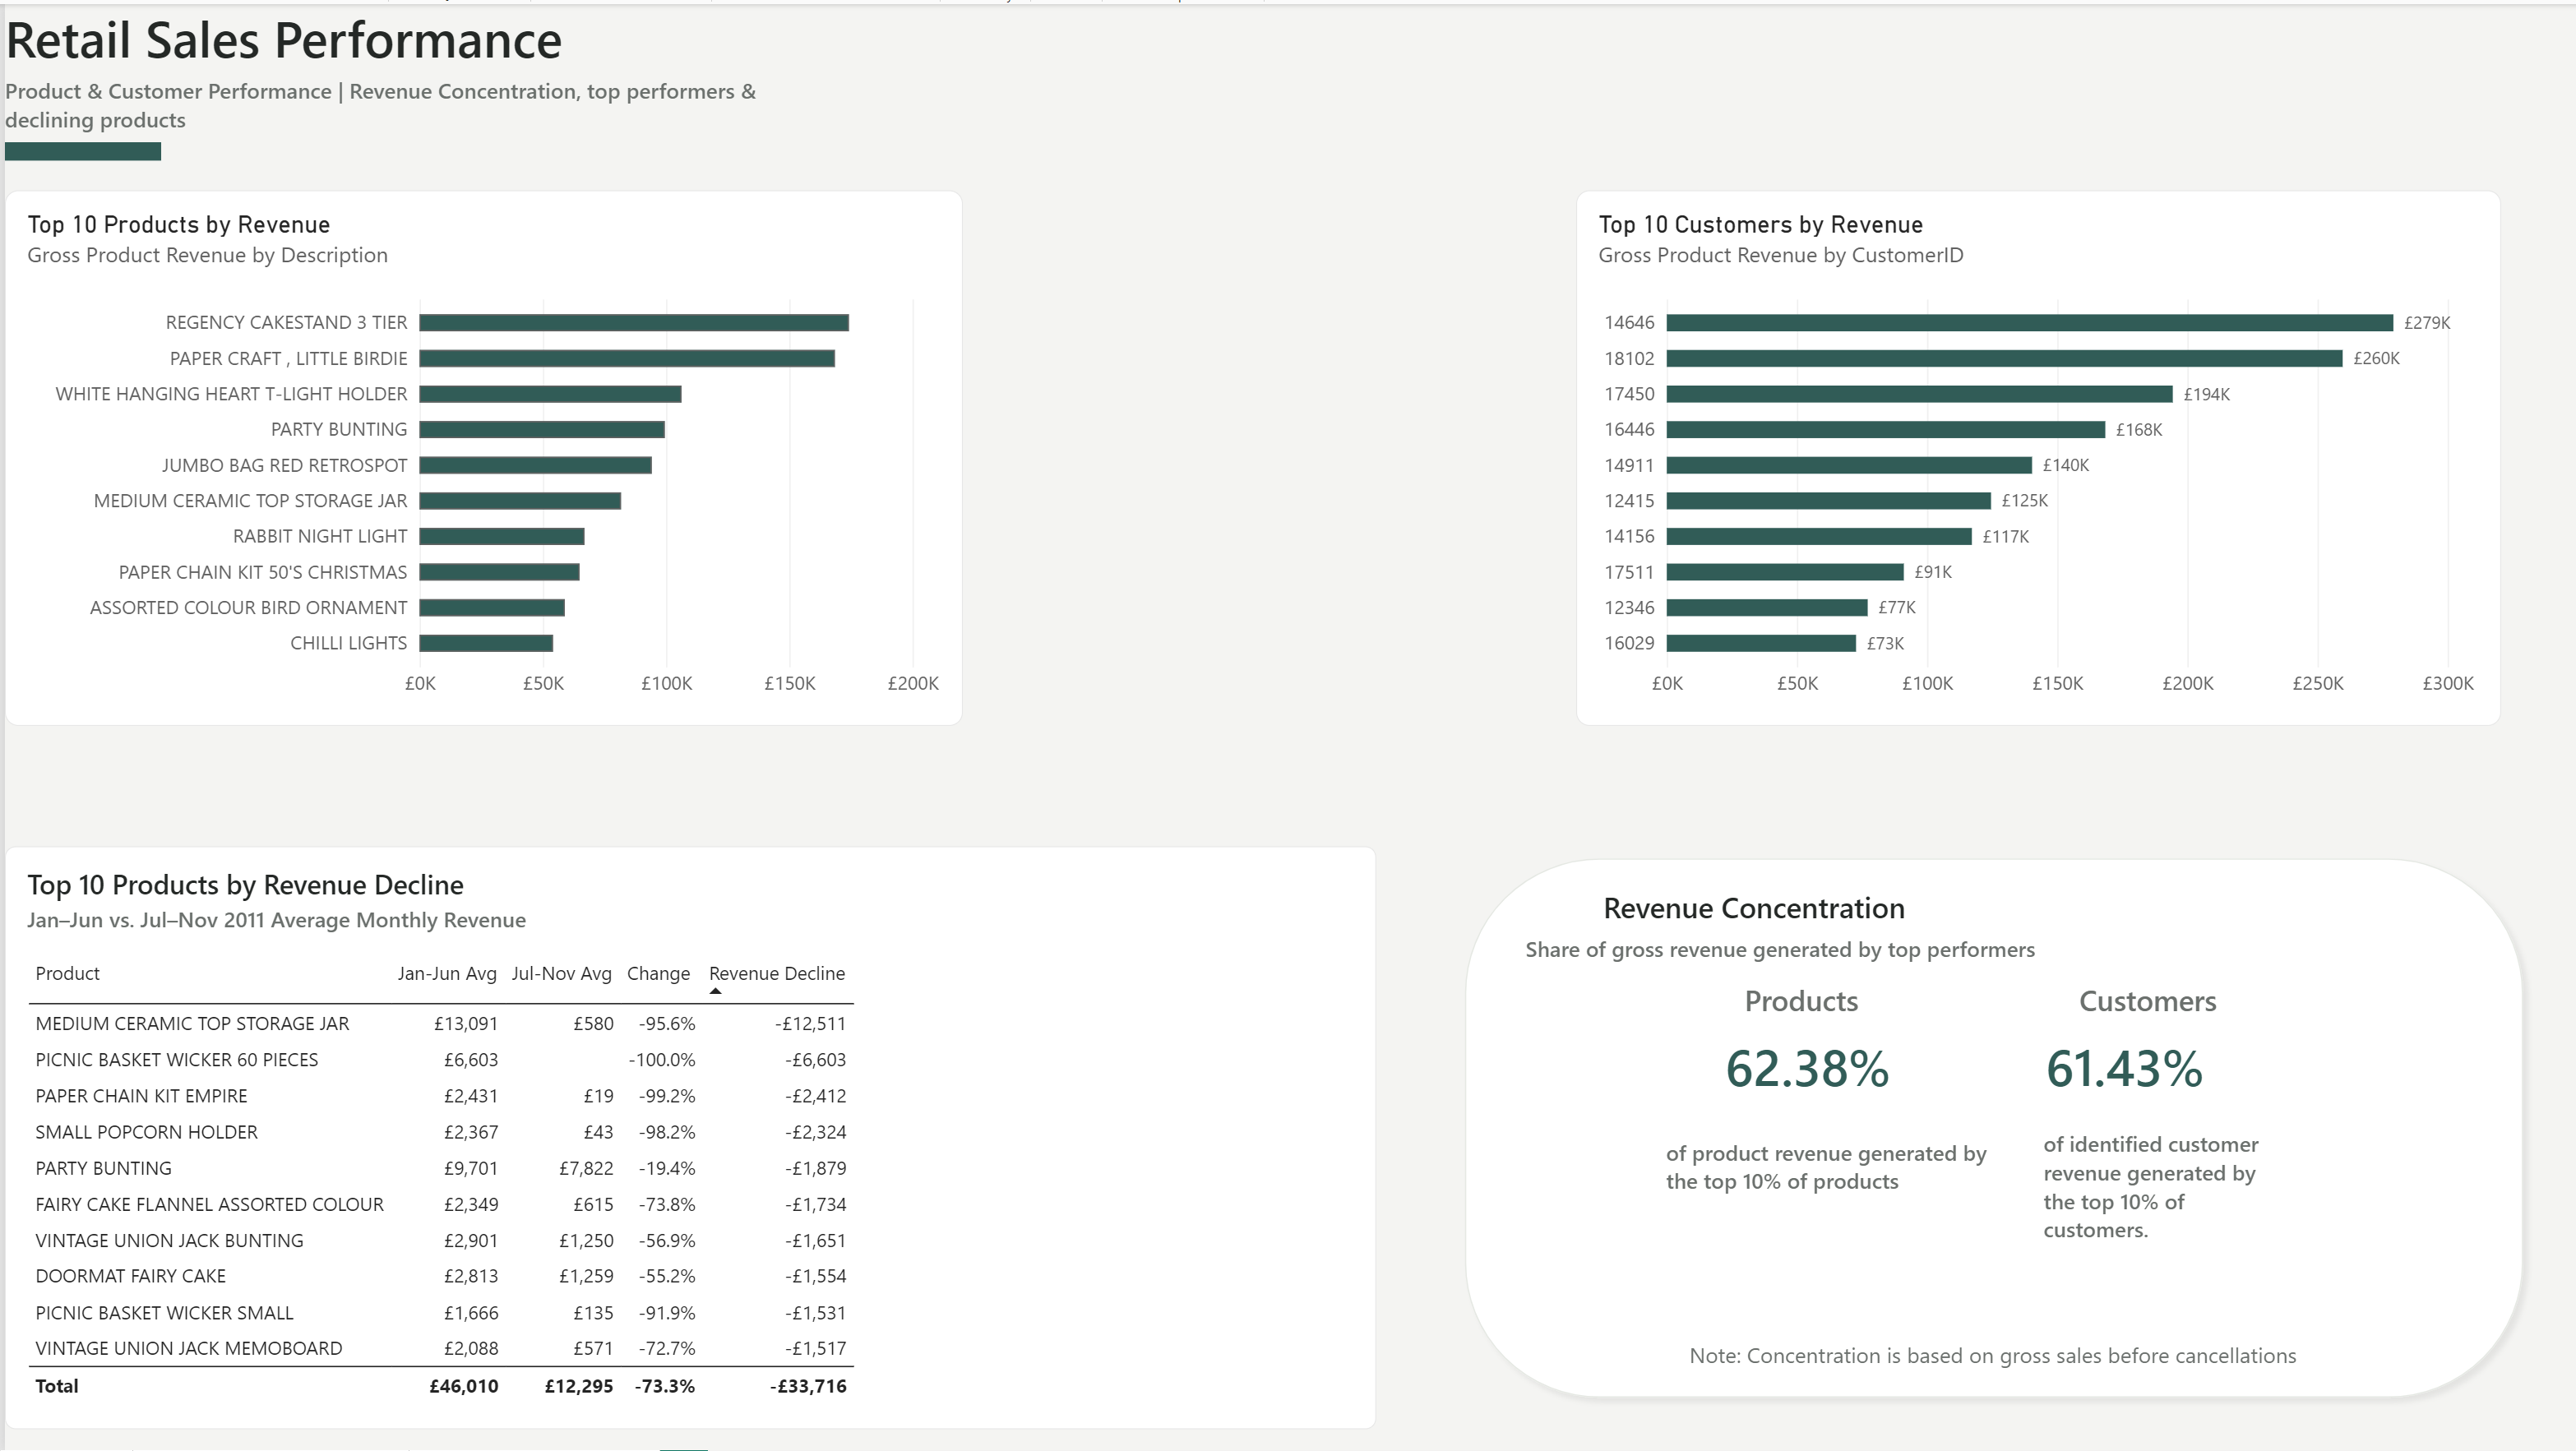

The dashboard page shown, as its layout file describes it:
{"tool":"powerbi","page":{"name":"Product & Customer Performance","canvas":[1920,1080],"ordinal":1},"visuals":[{"type":"shape","box":[1081,628.8,808.3,420.8],"z":0},{"type":"textbox","box":[0,0,568.9,72.6],"z":1000},{"type":"textbox","box":[0,53,568.9,43.2],"z":2000},{"type":"shape","box":[0,103,116.7,13.7],"z":3000},{"type":"clusteredBarChart","title":"Top 10 Products by Revenue","fields":{"Category":["online_retail_clean.Description"],"Y":["online_retail_clean.Gross Product Revenue"]},"box":[0,139.3,715.1,400.2],"z":4000},{"type":"clusteredBarChart","title":"Top 10 Customers by Revenue","fields":{"Category":["online_retail_clean.CustomerID"],"Y":["online_retail_clean.Gross Product Revenue"]},"box":[1173.2,139.3,690.6,400.2],"z":5000},{"type":"tableEx","title":"Top 10 Products by Revenue Decline","fields":{"Values":["online_retail_clean.Description","online_retail_clean.Earlier Avg Monthly Revenue","online_retail_clean.Recent Avg Monthly Revenue","online_retail_clean.Revenue Change %","online_retail_clean.Revenue Change"]},"box":[0,628.8,1024.1,435.5],"z":6000},{"type":"textbox","box":[1193.8,659.2,284.5,35.3],"z":7000},{"type":"textbox","box":[1135.9,694.5,386.5,34.3],"z":8000},{"type":"textbox","box":[1225.2,728.8,233.5,31.4],"z":9000},{"type":"textbox","box":[1243.8,768.1,214.8,59.8],"z":10000},{"type":"textbox","box":[1498.9,728.8,204,31.4],"z":11000},{"type":"textbox","box":[1498.9,768.1,169.7,59.8],"z":12000},{"type":"textbox","box":[1240.9,846.5,258,87.3],"z":13000},{"type":"textbox","box":[1522.4,839.7,182.5,87.3],"z":14000},{"type":"textbox","box":[1212.4,997.6,545.4,30.4],"z":15000}]}

Visuals, with their boxes in screenshot pixels (x1, y1, x2, y2), scaled from the page's 1920x1080 canvas onto the 2576x1451 screenshot:
shape: (1450, 845, 2535, 1410)
textbox: (0, 0, 763, 98)
textbox: (0, 72, 763, 129)
shape: (0, 138, 156, 157)
"Top 10 Products by Revenue" clusteredBarChart: (0, 187, 960, 725)
"Top 10 Customers by Revenue" clusteredBarChart: (1574, 187, 2500, 725)
"Top 10 Products by Revenue Decline" tableEx: (0, 845, 1374, 1430)
textbox: (1602, 885, 1983, 933)
textbox: (1524, 933, 2042, 979)
textbox: (1644, 979, 1957, 1021)
textbox: (1669, 1032, 1957, 1112)
textbox: (2011, 979, 2285, 1021)
textbox: (2011, 1032, 2239, 1112)
textbox: (1665, 1137, 2011, 1255)
textbox: (2042, 1128, 2287, 1245)
textbox: (1626, 1340, 2358, 1381)
